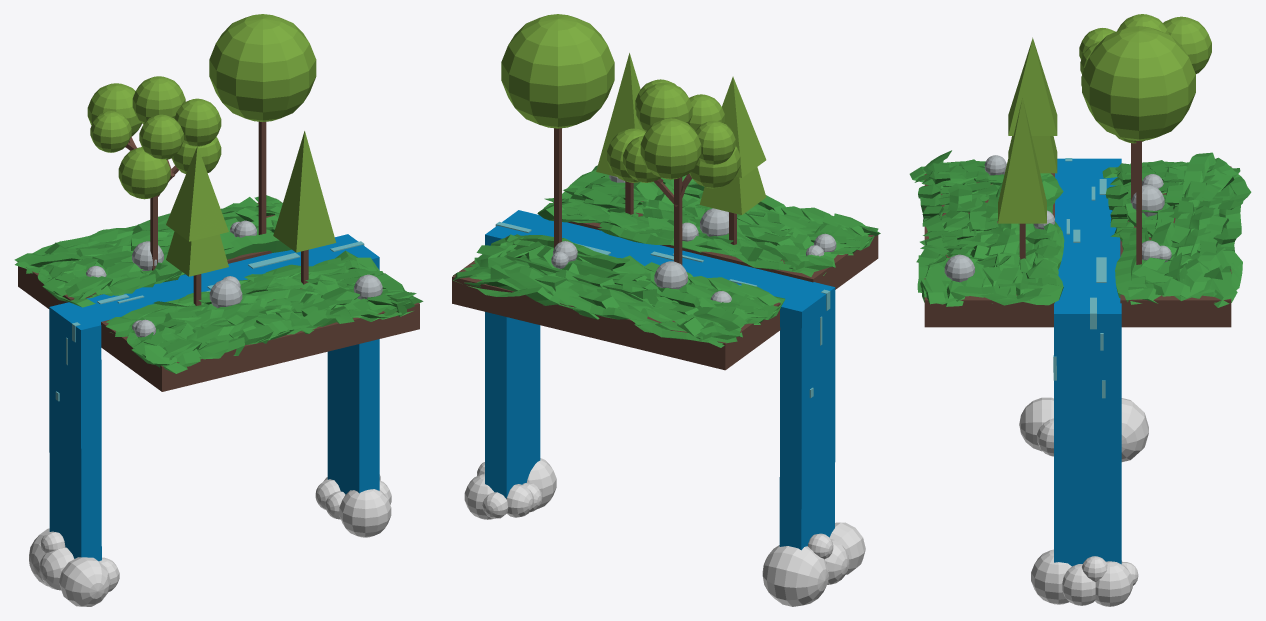
3 views of the same model, side by side, from view 1: azimuth 30°, elevation 25°; view 2: azimuth 150°, elevation 25°; view 3: azimuth 270°, elevation 25° (orthographic). The views are drawn at different scales.
Parts seen in each view (by area): view 1: node_MeshObject185048576-PolyPaper10, node_MeshObject378039168-PolyPaper10, node_MeshObject1488824384-PolyPaper10, node_MeshObject-528741888-PolyPaper21; view 2: node_MeshObject185048576-PolyPaper10, node_MeshObject1488824384-PolyPaper10, node_MeshObject378039168-PolyPaper10, node_MeshObject-528741888-PolyPaper21; view 3: node_MeshObject378039168-PolyPaper10, node_MeshObject185048576-PolyPaper10, node_MeshObject1488824384-PolyPaper10, node_MeshObject-528741888-PolyPaper21.
Part boxes in pixels (x1,y1,x2,y2): node_MeshObject185048576-PolyPaper10: (49, 83, 391, 561); node_MeshObject378039168-PolyPaper10: (44, 76, 423, 401); node_MeshObject1488824384-PolyPaper10: (14, 14, 359, 344); node_MeshObject-528741888-PolyPaper21: (29, 479, 345, 606); node_MeshObject185048576-PolyPaper10: (464, 94, 836, 550); node_MeshObject1488824384-PolyPaper10: (452, 14, 826, 370); node_MeshObject378039168-PolyPaper10: (513, 53, 880, 398); node_MeshObject-528741888-PolyPaper21: (506, 482, 865, 606); node_MeshObject378039168-PolyPaper10: (909, 14, 1241, 398); node_MeshObject185048576-PolyPaper10: (924, 16, 1211, 606); node_MeshObject1488824384-PolyPaper10: (942, 26, 1251, 327); node_MeshObject-528741888-PolyPaper21: (1019, 397, 1148, 561).
Size of the model in its own units: 3.71 by 5.21 by 2.99.
